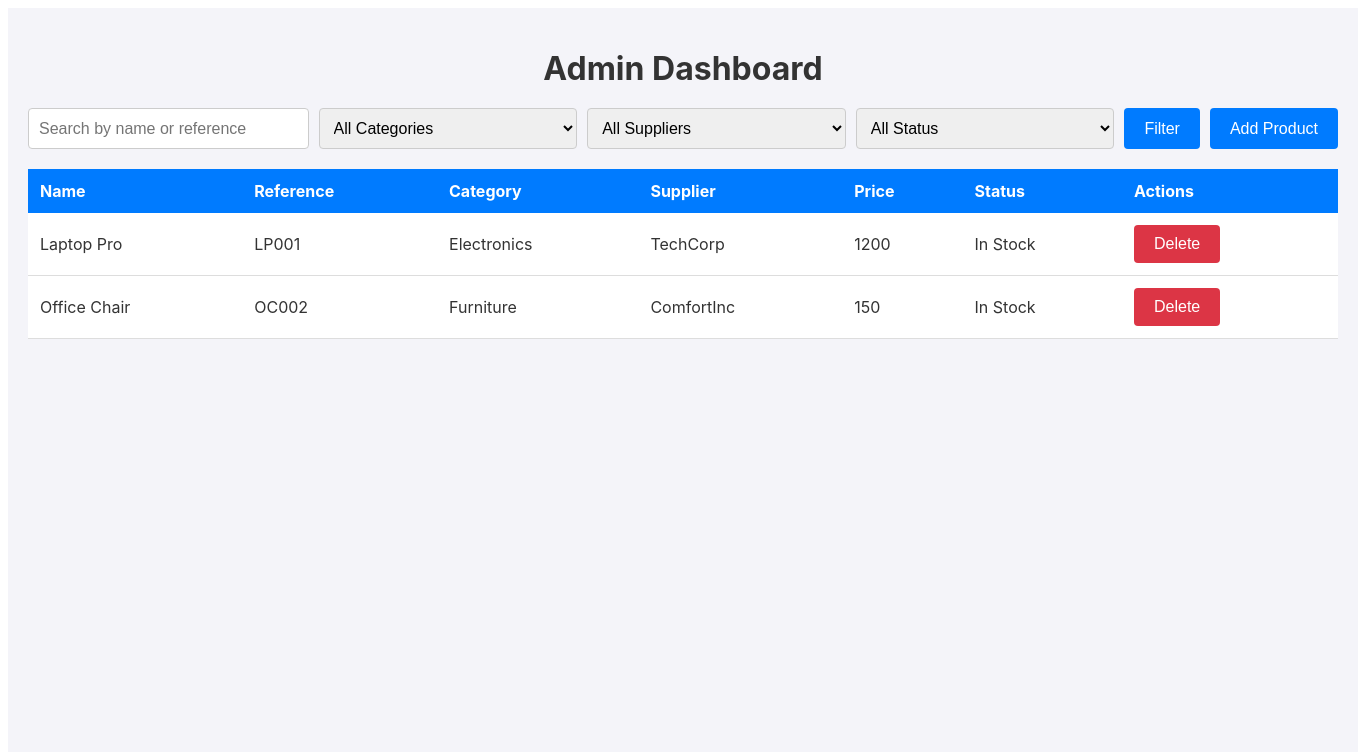
Scenario: AdminDashboard Component › should allow typing into the add product form and submitting
The width and height of the screenshot is (1366, 752).
expect the text "Laptop Pro" is shown: met, box [28, 213, 242, 276]
expect the text "Office Chair" is shown: met, box [28, 276, 242, 339]
Open the add product form
Click the button "Add Product": click(1274, 129) [1210, 108, 1338, 149]
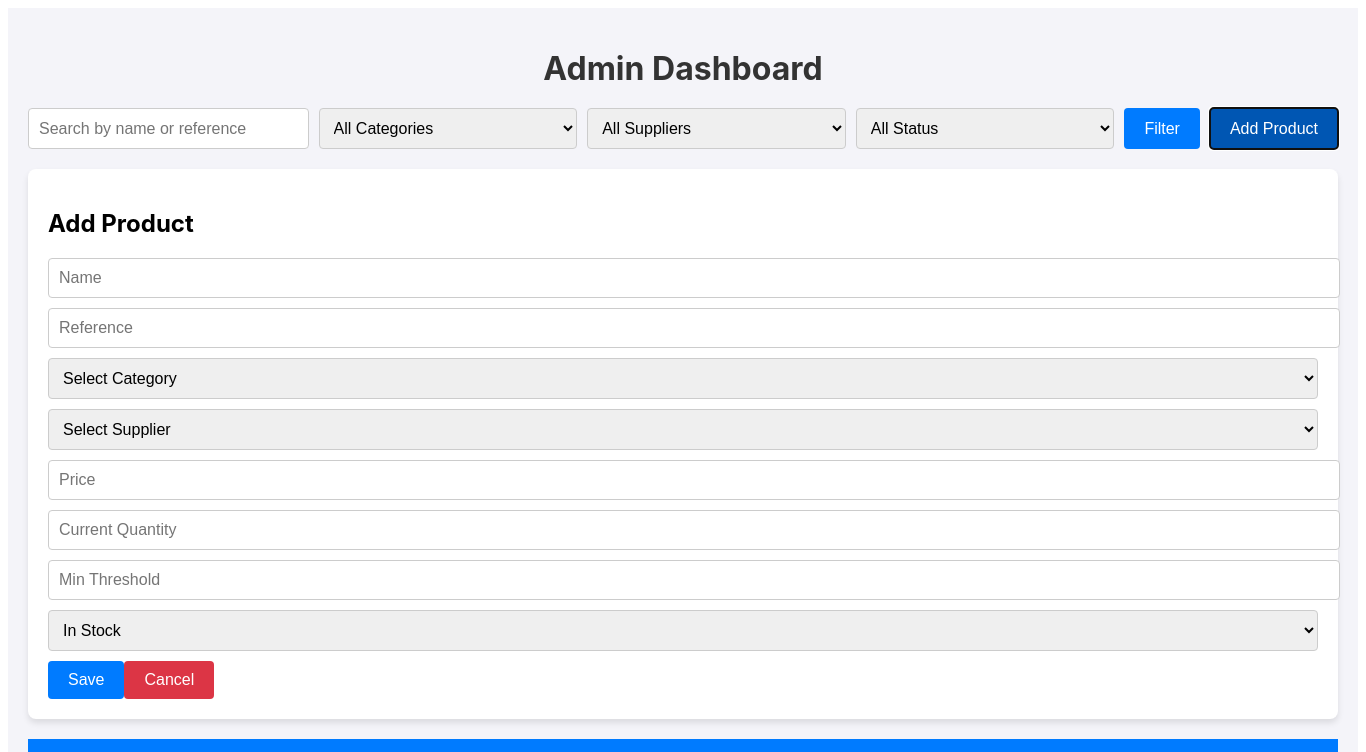
expect the field with placeholder "Name" is shown: met
In the field with placeholder "Name": (694, 278) [48, 258, 1340, 298], type "New Awesome Gadget"
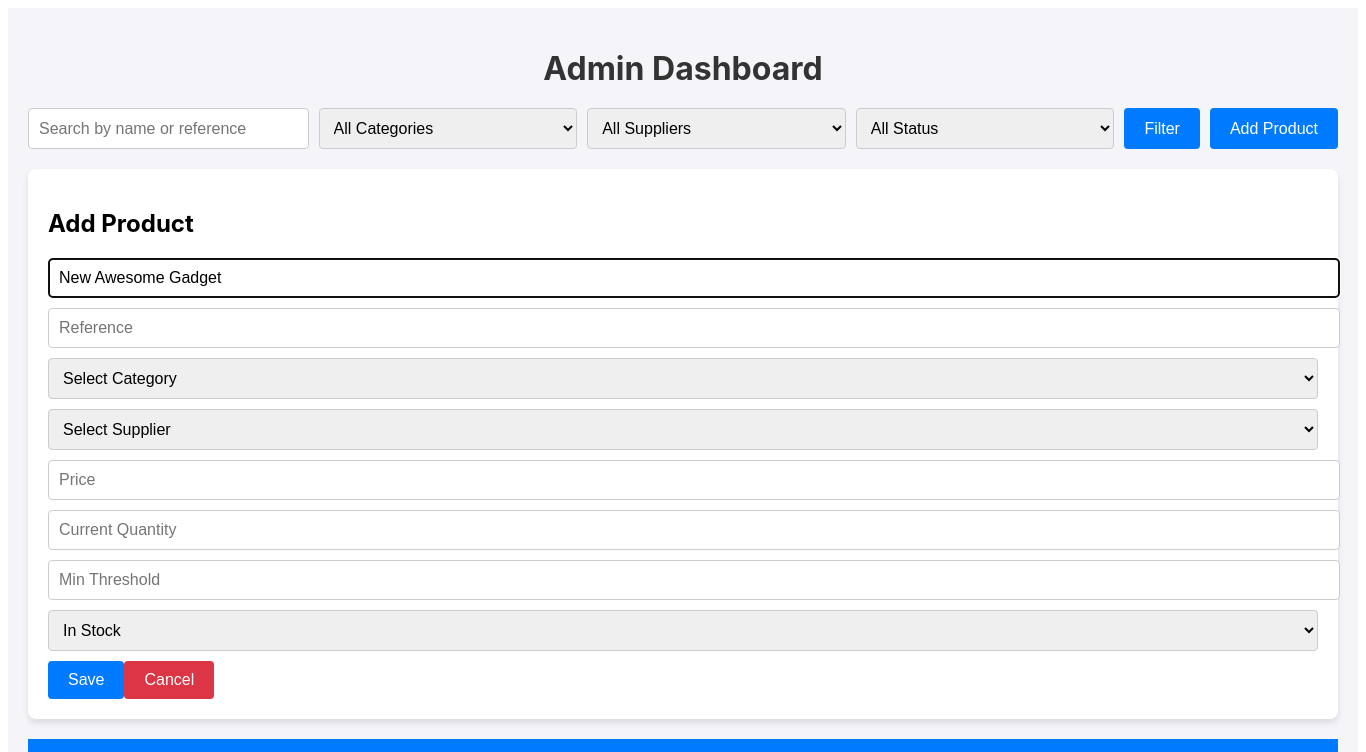
Simulate filling other required fields...
In the field with placeholder "Reference": (694, 328) [48, 308, 1340, 348], type "NAG001"
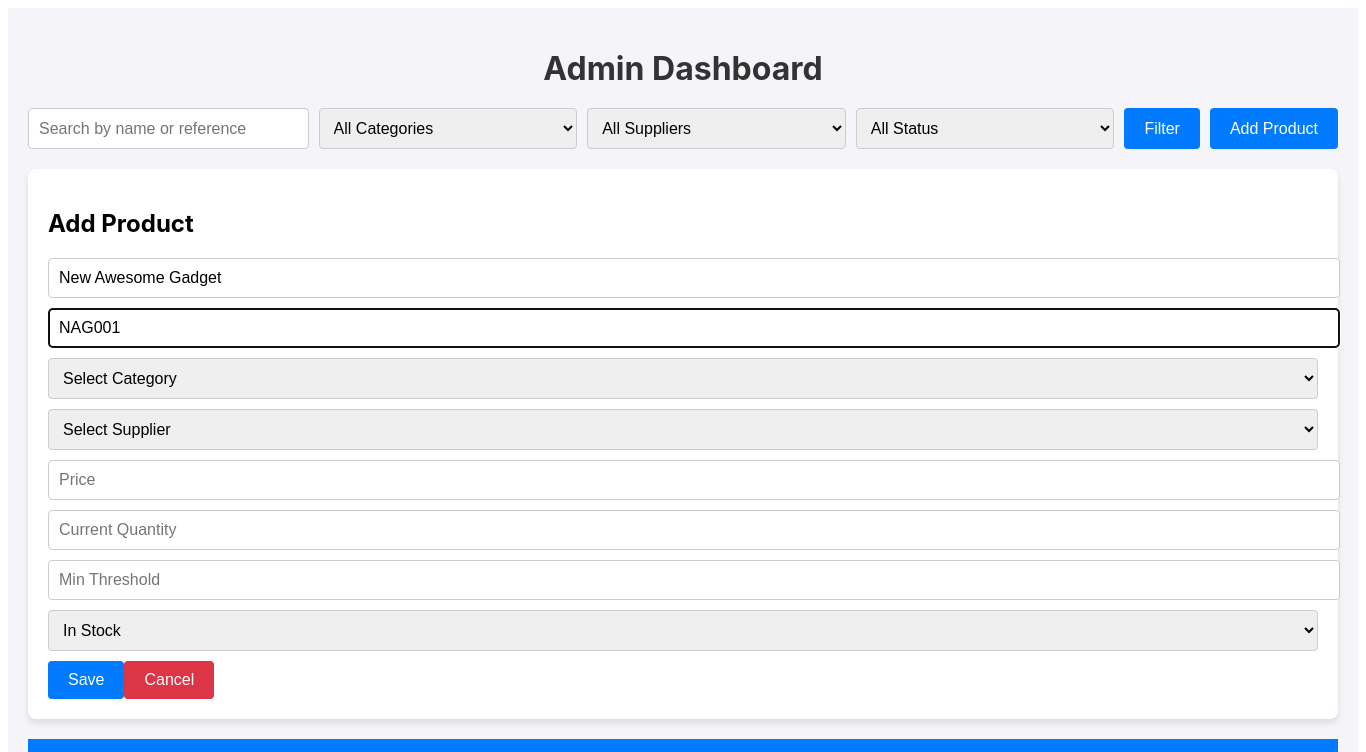
In the number field with placeholder "Price": (694, 480) [48, 460, 1340, 500], type "99.99"
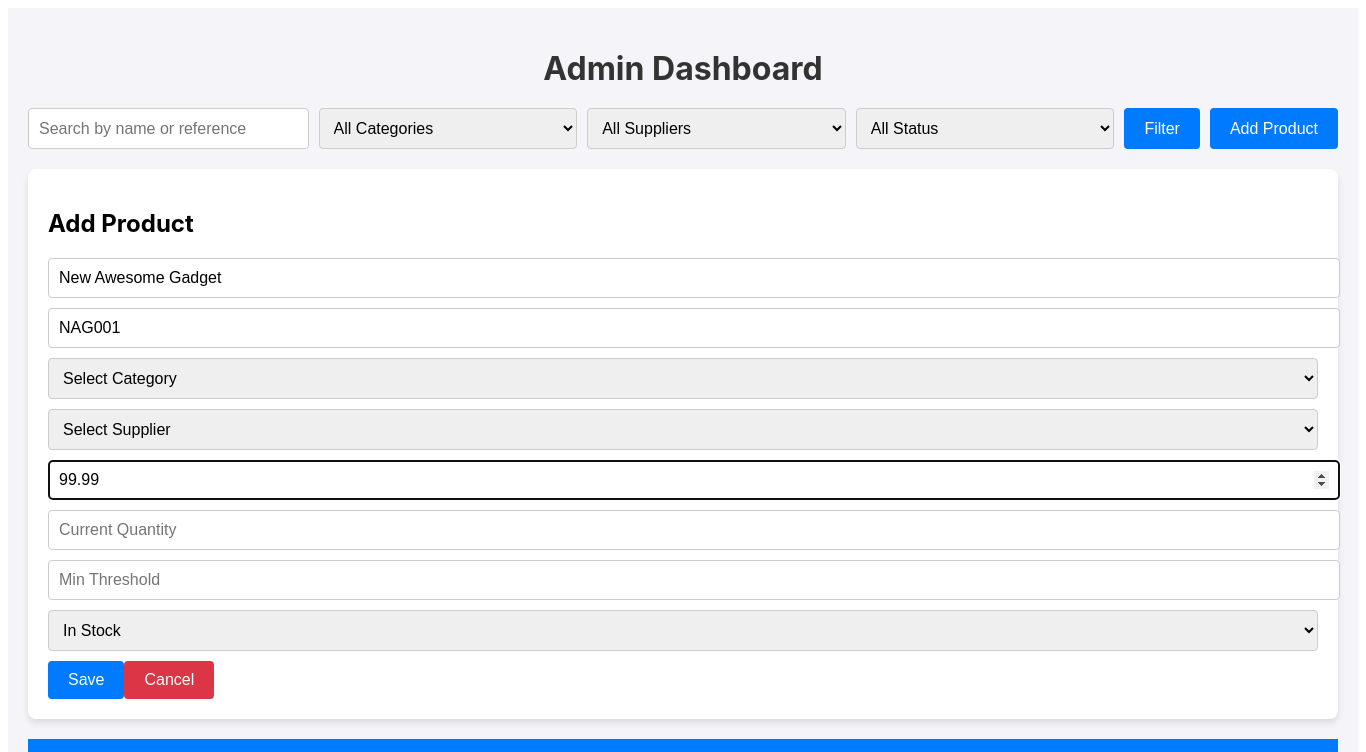
In the number field with placeholder "Current Quantity": (694, 530) [48, 510, 1340, 550], type "10"
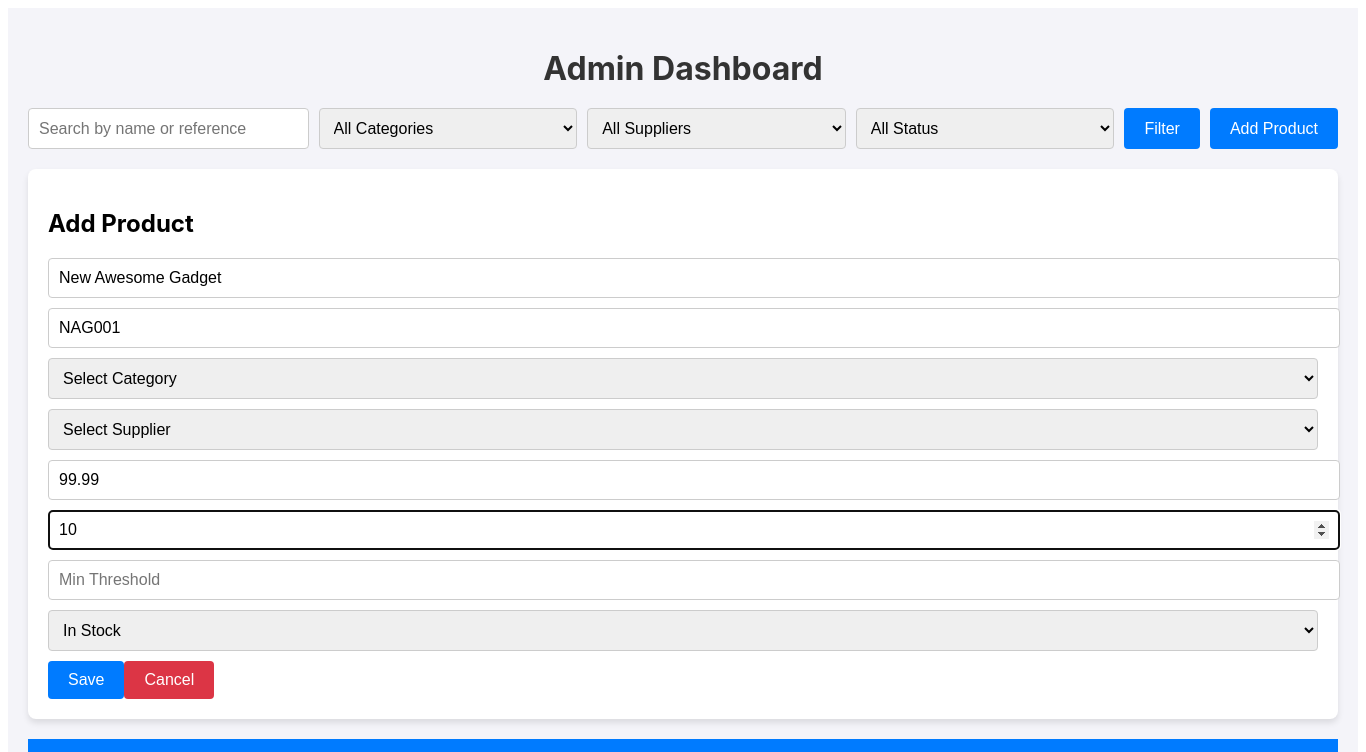
Click the button "Save": click(86, 680) [48, 661, 124, 699]
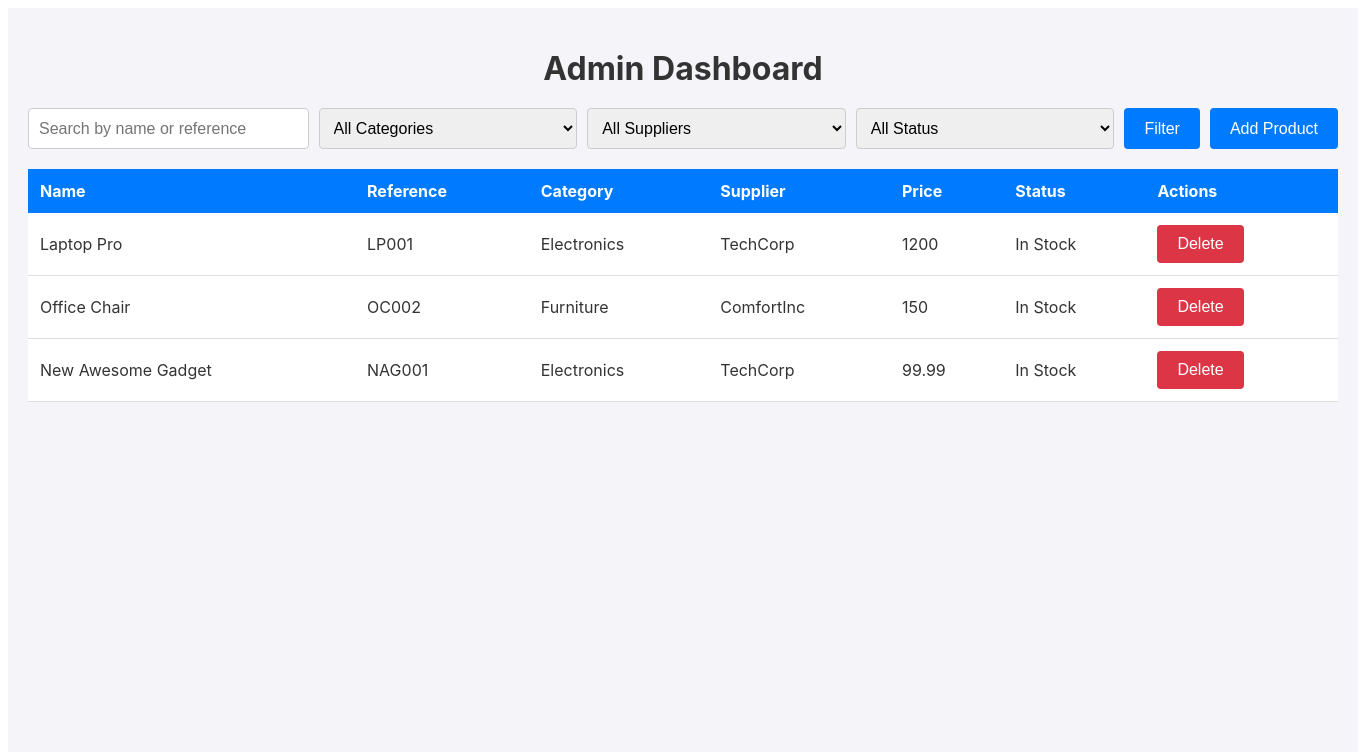
expect the text "New Awesome Gadget" is shown: met, box [28, 339, 355, 402]
